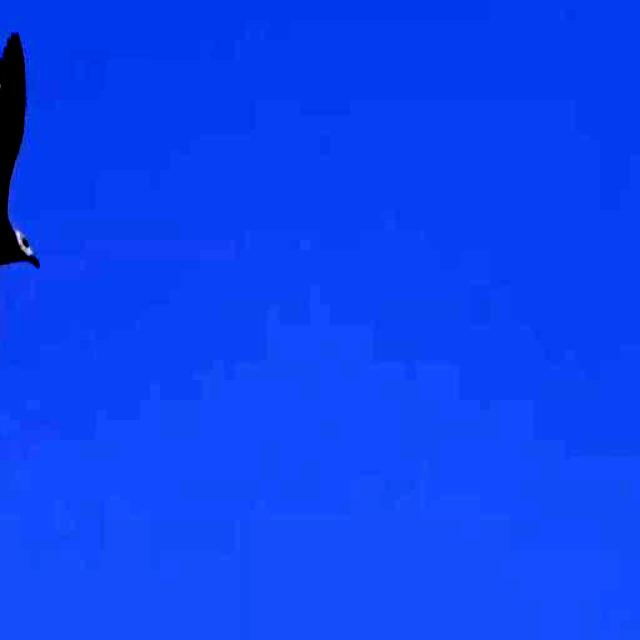airplane: (0, 0, 72, 471)
